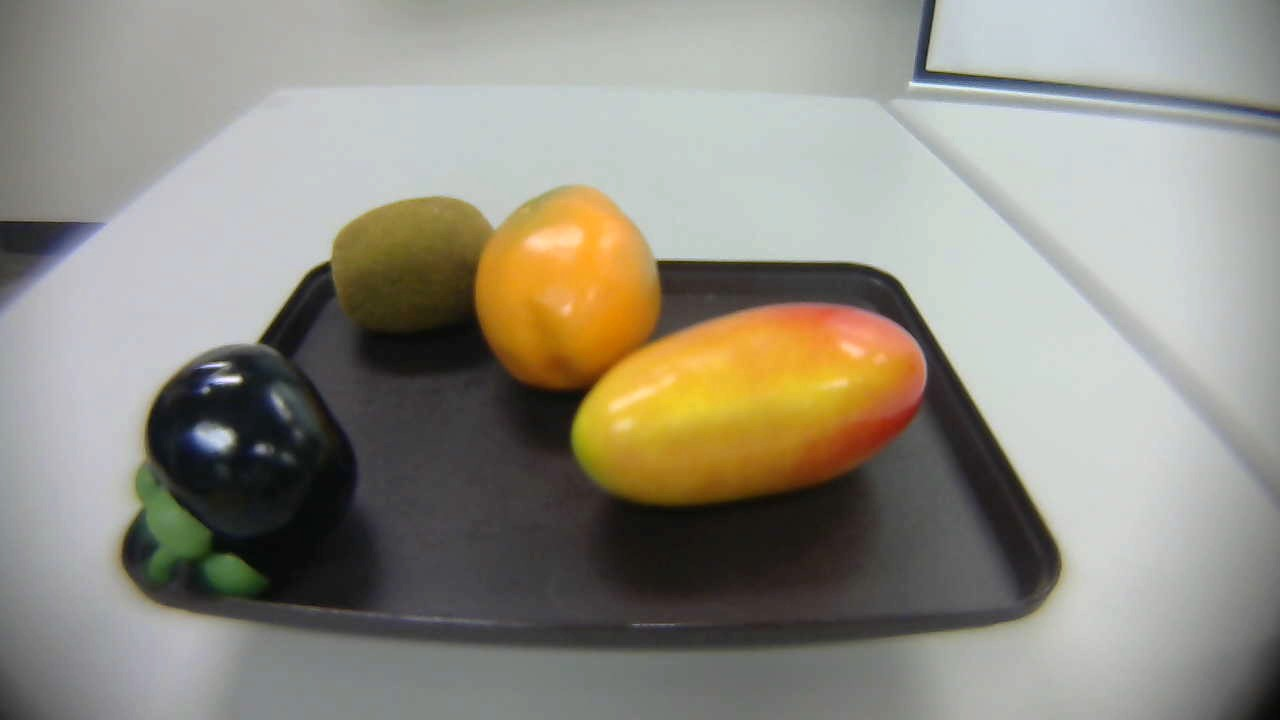kiwi fruit: (327, 181, 512, 351)
mangosteen: (117, 340, 369, 593)
papya: (460, 176, 682, 403)
red mango: (562, 301, 940, 518)
